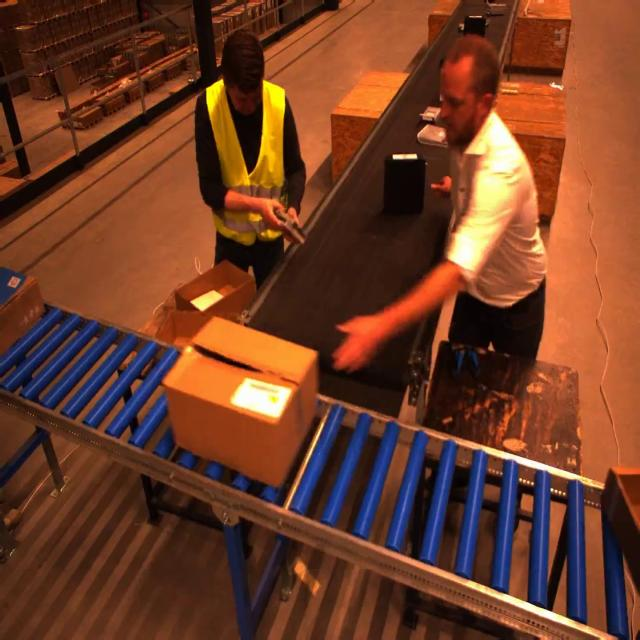box: (160, 317, 318, 485), (141, 262, 258, 354), (0, 268, 45, 359)
product: (381, 153, 428, 216), (271, 208, 305, 245), (416, 123, 452, 151), (419, 106, 440, 124), (485, 2, 506, 14)
